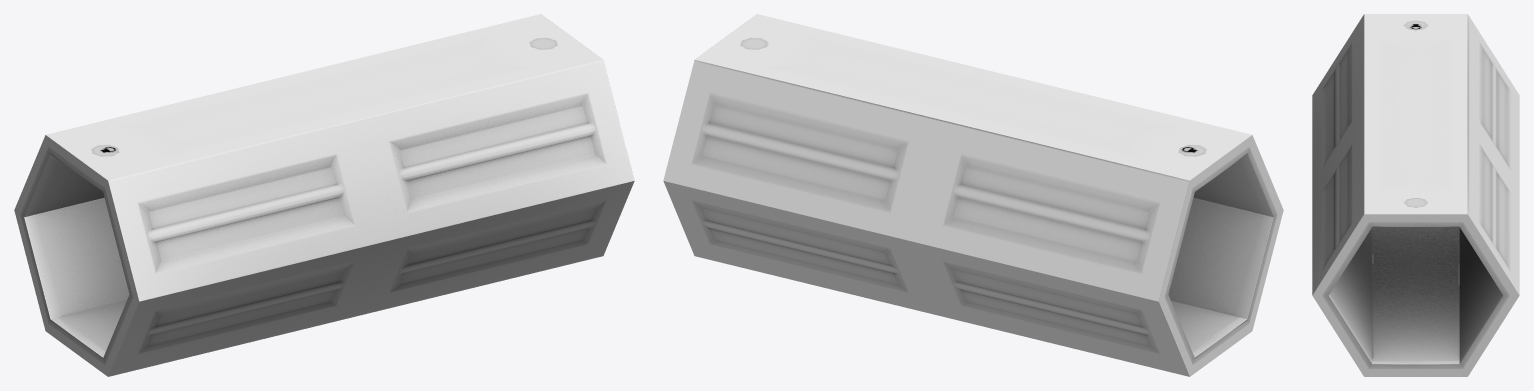
The model's file is cargo.fbx.
3 views of the same model, side by side, from view 1: azimuth 30°, elevation 25°; view 2: azimuth 150°, elevation 25°; view 3: azimuth 270°, elevation 25° (orthographic). The views are drawn at different scales.
Visible parts, largest first — view 1: BoxLow.001; view 2: BoxLow.001; view 3: BoxLow.001.
Part boxes in pixels (bbox=[...]): BoxLow.001: bbox=[14, 14, 634, 376]; BoxLow.001: bbox=[663, 14, 1283, 376]; BoxLow.001: bbox=[1312, 14, 1519, 376].
Size of the model in its own units: 1000 by 379 by 437.
Materials: 1 (1 with a texture image).
